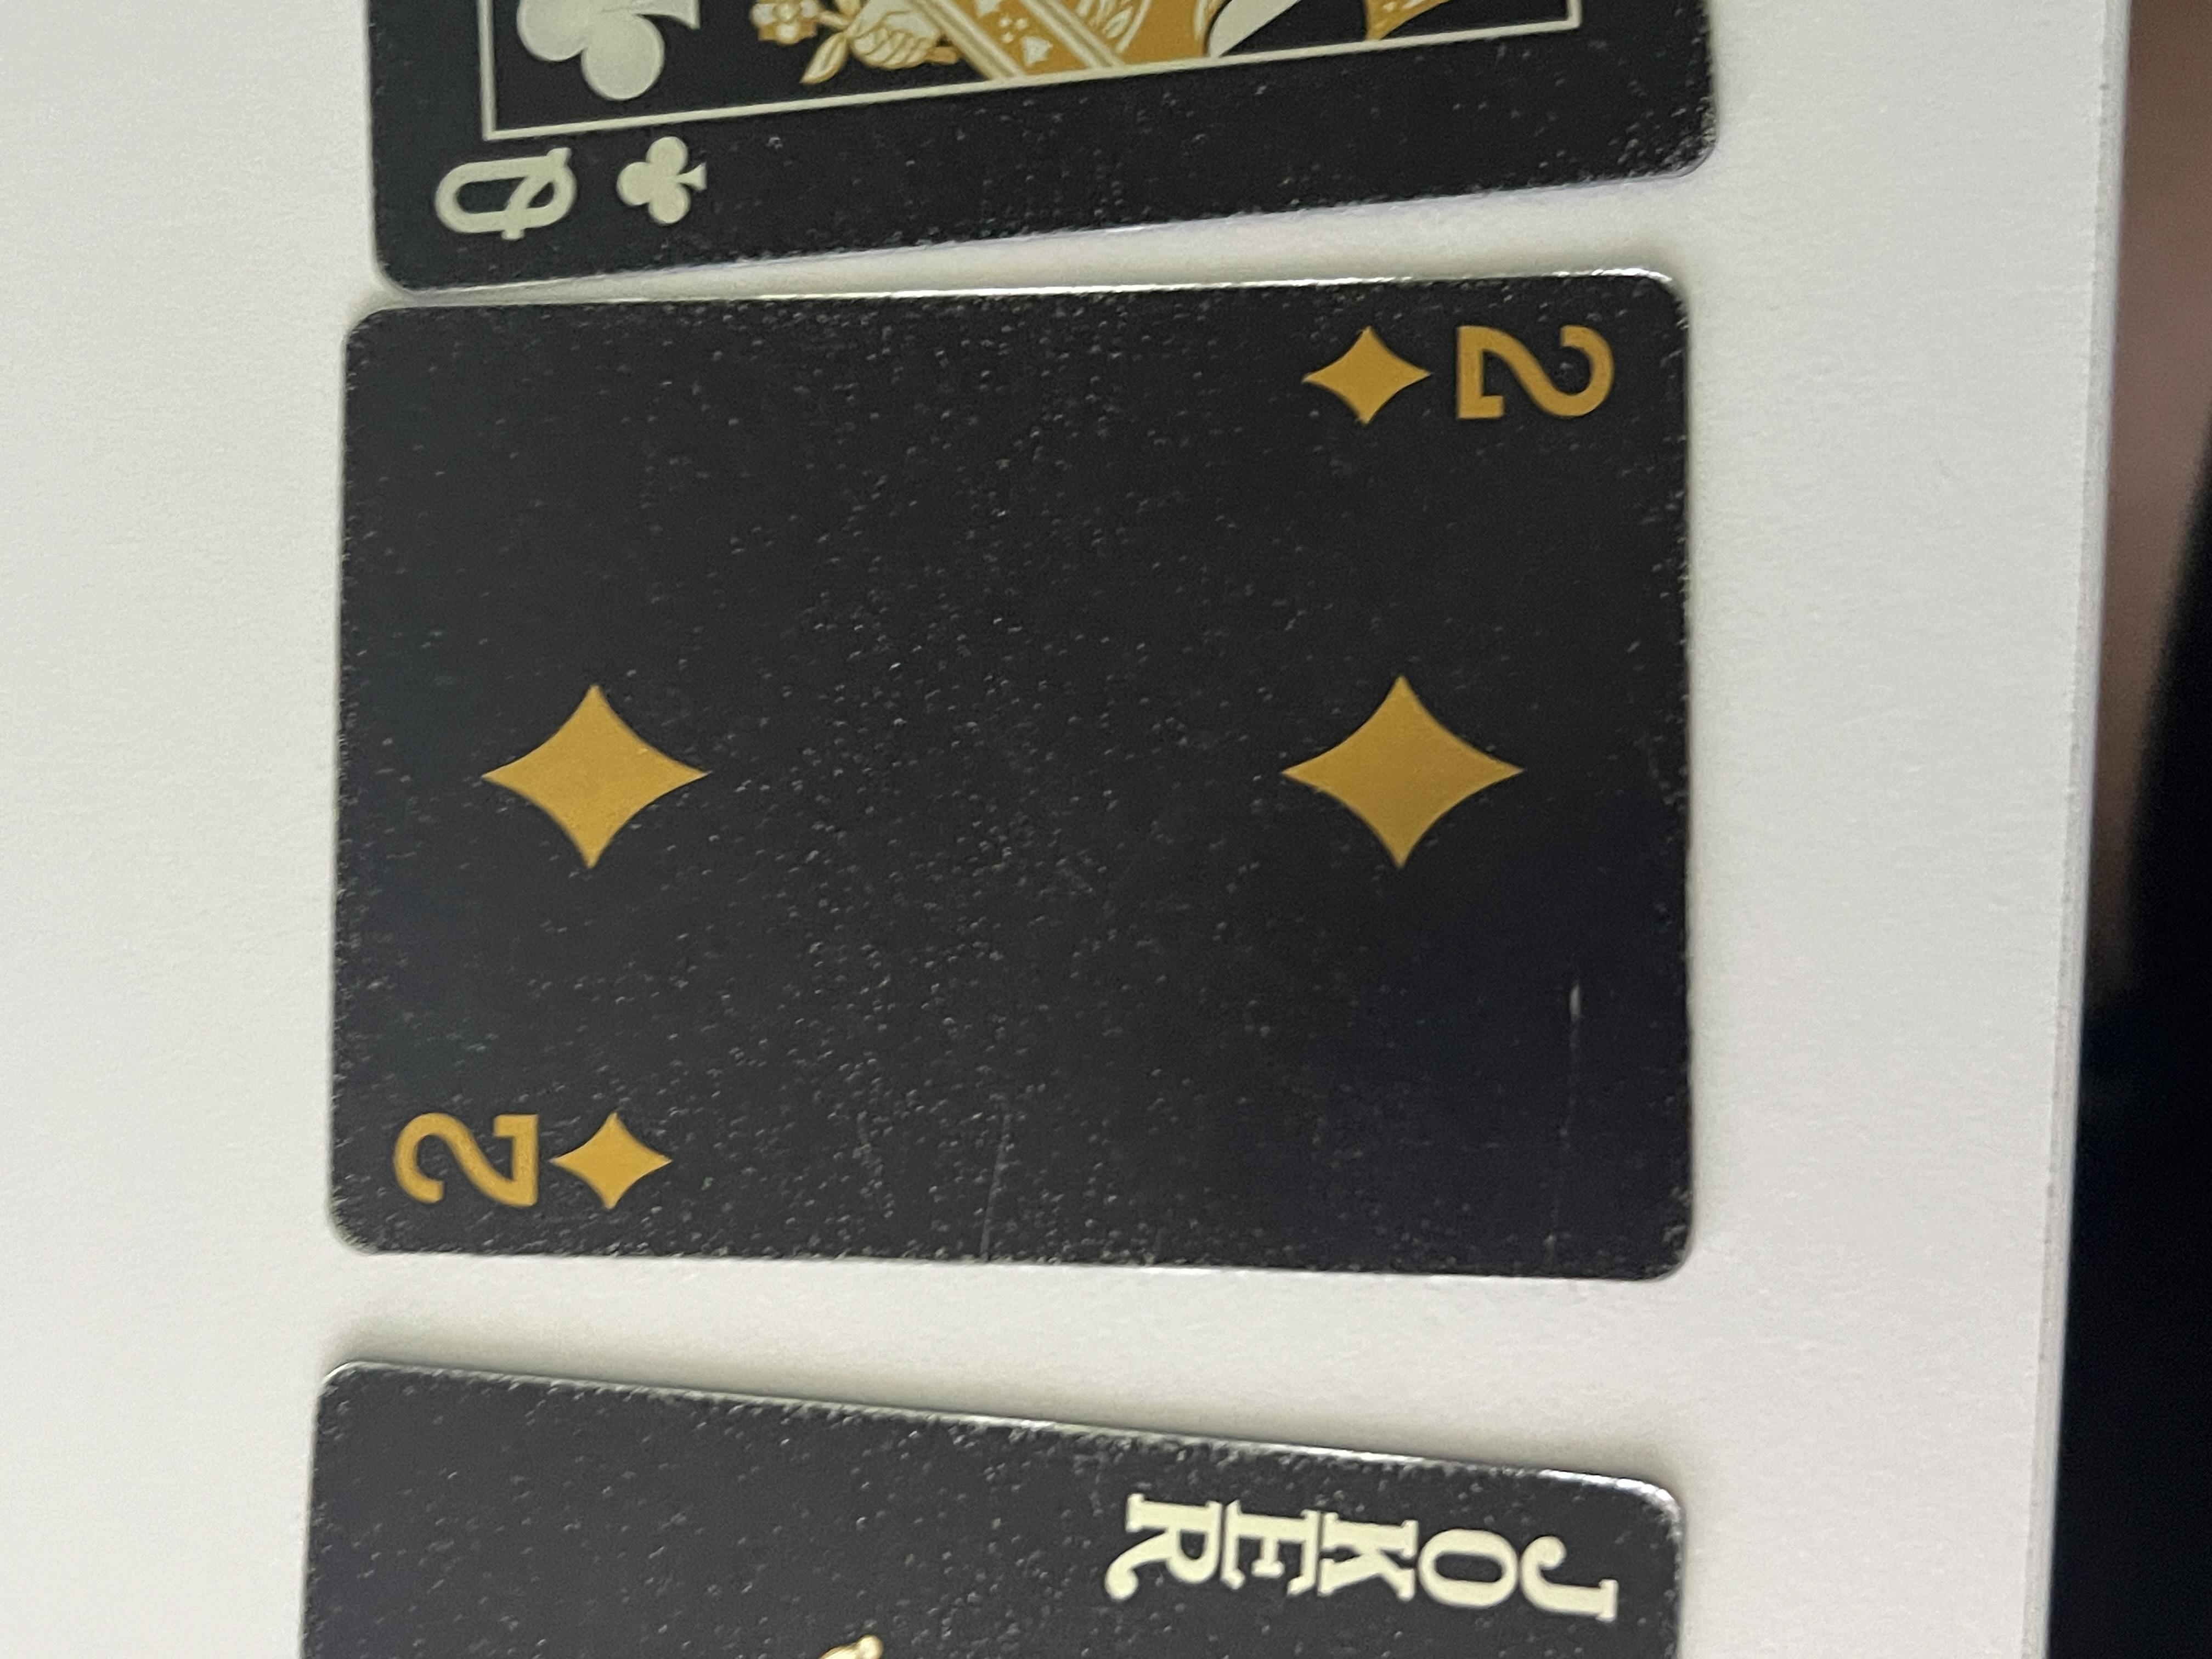2D: (1613, 958, 1836, 1249), (556, 270, 761, 519)
BLACK JOKER: (47, 816, 233, 1229)
QC: (1851, 289, 2078, 554)
